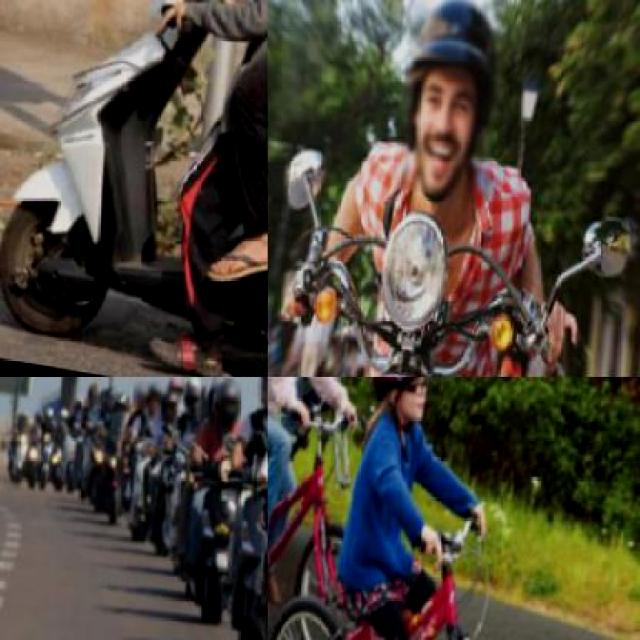With Helmet: (386, 0, 517, 205), (357, 377, 445, 437), (209, 377, 243, 426), (157, 384, 180, 422), (142, 378, 166, 413), (130, 378, 150, 410), (251, 377, 266, 412)
